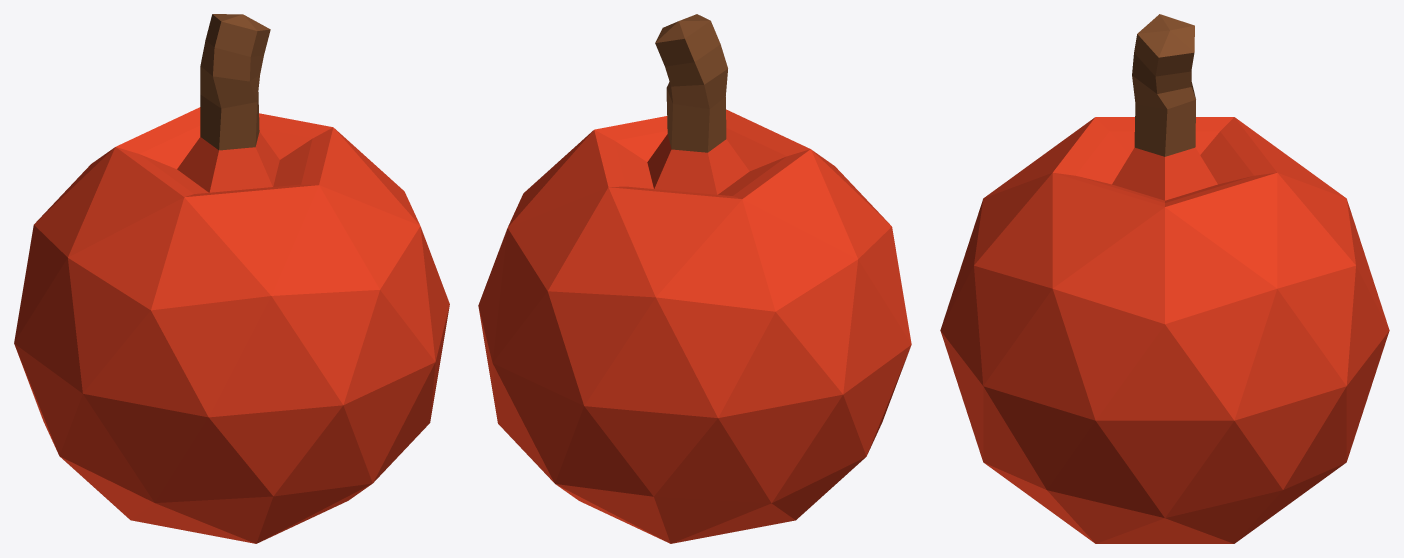
File: cheryy.fbx
The picture shows the model from 3 angles, left to right: view 1: azimuth 30°, elevation 25°; view 2: azimuth 150°, elevation 25°; view 3: azimuth 270°, elevation 25°; orthographic projection.
Parts seen in each view (by area): view 1: Icosphere; view 2: Icosphere; view 3: Icosphere.
Boxes of the visible parts, bbox=[...] form: Icosphere: bbox=[14, 14, 449, 543]; Icosphere: bbox=[478, 14, 911, 543]; Icosphere: bbox=[940, 14, 1389, 543].
Bounding box in the file's own units: 305 × 404 × 320.
